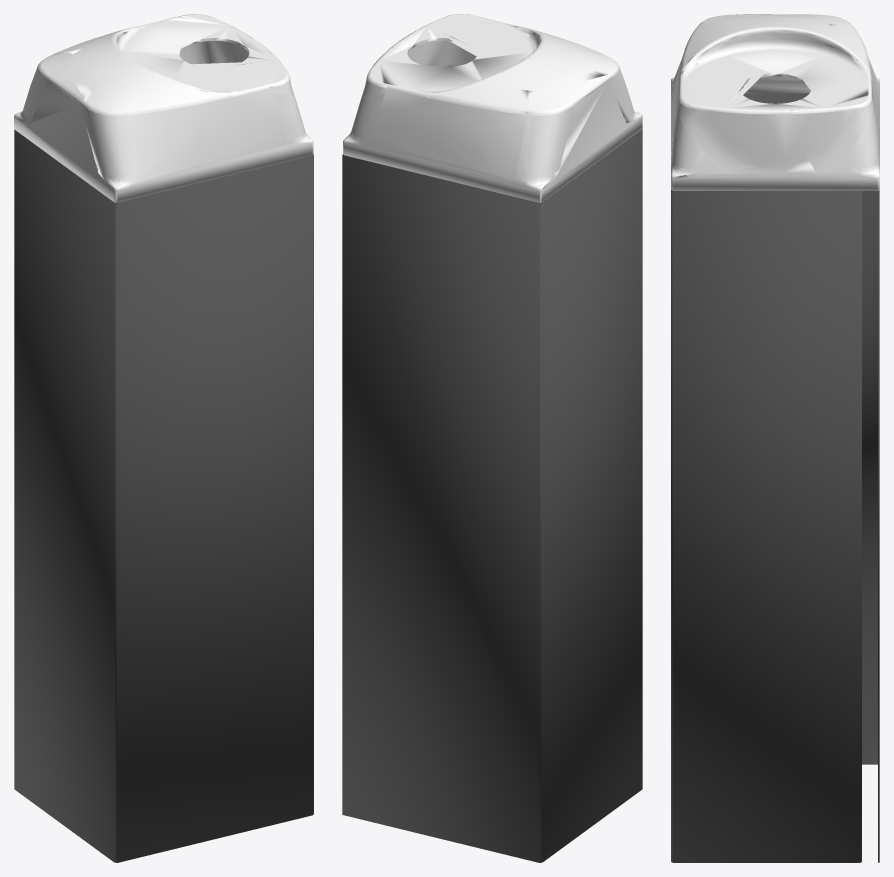
File: torso_light.dae
3 views of the same model, side by side, from view 1: azimuth 30°, elevation 25°; view 2: azimuth 150°, elevation 25°; view 3: azimuth 270°, elevation 25° (orthographic).
Visible parts, largest first — view 1: Torso_lower, Torso_upper; view 2: Torso_lower, Torso_upper; view 3: Torso_lower, Torso_upper.
Boxes of the visible parts, bbox=[...] form: Torso_lower: bbox=[14, 129, 313, 862]; Torso_upper: bbox=[14, 14, 313, 202]; Torso_lower: bbox=[342, 129, 642, 862]; Torso_upper: bbox=[343, 14, 642, 202]; Torso_lower: bbox=[671, 93, 879, 862]; Torso_upper: bbox=[671, 14, 879, 190].
Size of the model in its own units: 0.1537 by 0.137 by 0.5554.
Materials: 2 (2 with a texture image).
